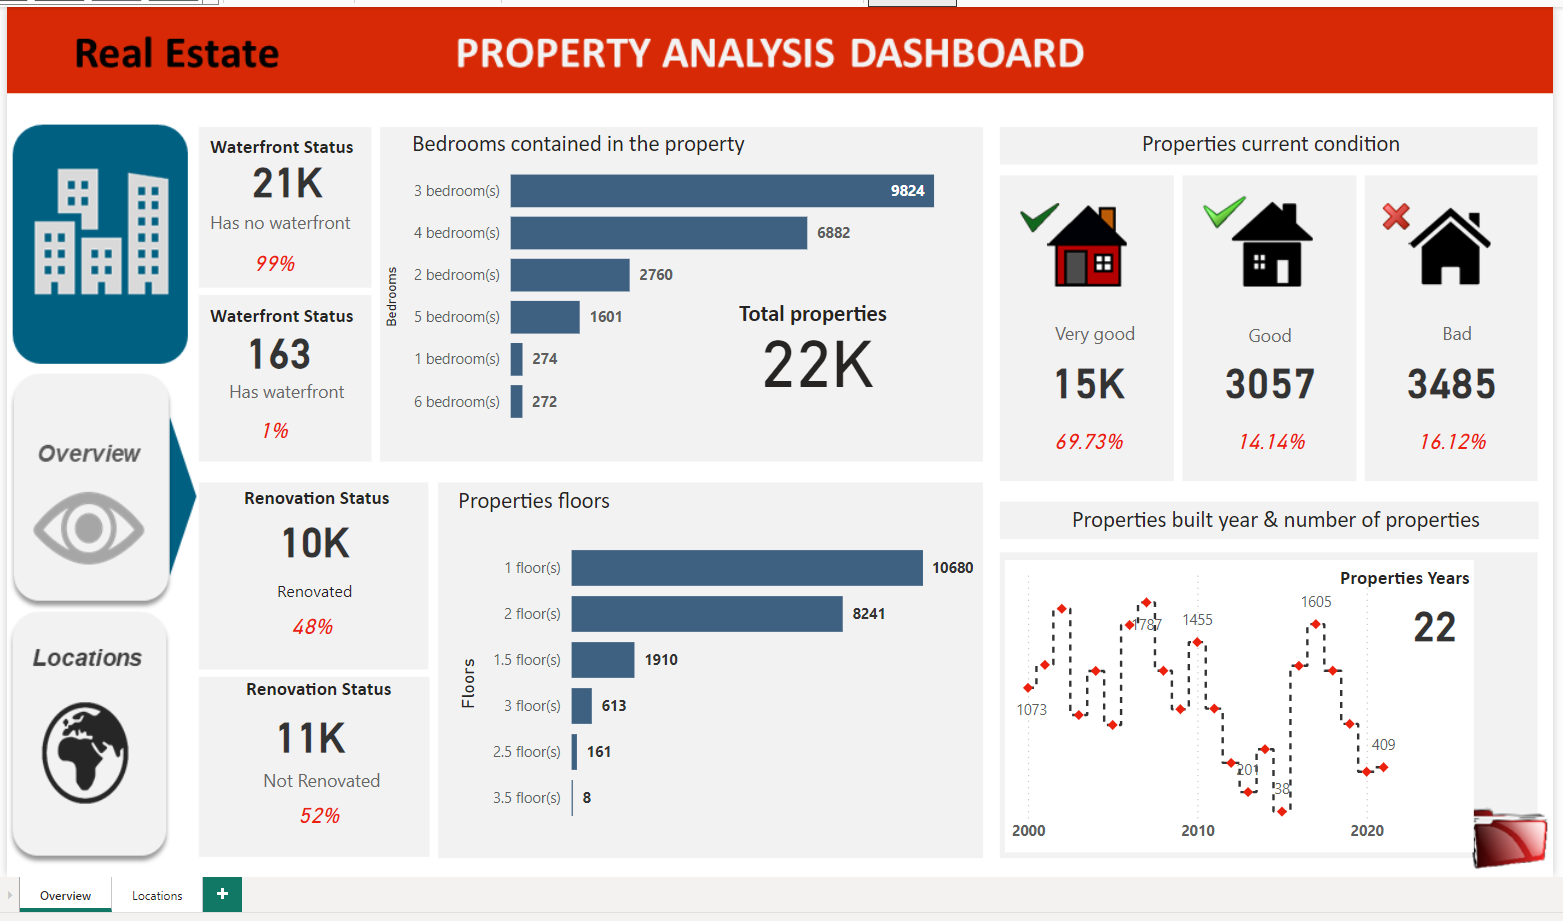

This screenshot's page, from the dashboard's own definition file:
{"tool":"powerbi","page":{"name":"Overview","canvas":[1280,720],"ordinal":0},"visuals":[{"type":"textbox","box":[330.2,96.4,340.2,39.7],"z":0},{"type":"barChart","fields":{"Category":["Dim_Bedrooms.Bedrooms"],"Y":["Measures Table.Total properties"]},"box":[307.6,112,497.5,248],"z":1000},{"type":"textbox","box":[600.9,236.7,157.3,41.1],"z":2000},{"type":"card","fields":{"Values":["Measures Table.Total properties"]},"box":[582.5,236.7,175.7,103.5],"z":3000},{"type":"card","fields":{"Values":["Measures Table.Waterfront No"]},"box":[163,121.9,137.5,41.1],"z":4000},{"type":"card","fields":{"Values":["Measures Table.Waterfront Yes"]},"box":[178.6,260.8,92.1,46.8],"z":5000},{"type":"textbox","box":[163,100.6,137.5,29.8],"z":6000},{"type":"textbox","box":[163,240.9,137.5,29.8],"z":7000},{"type":"textbox","box":[163,163,137.5,29.8],"z":8000},{"type":"card","fields":{"Values":["Measures Table.Waterfront No%"]},"box":[185.7,188.5,70.9,48.2],"z":9000},{"type":"card","fields":{"Values":["Measures Table.Waterfront Yes%"]},"box":[197,330.2,46.8,41.1],"z":10000},{"type":"textbox","box":[178.6,303.3,117.6,29.8],"z":11000},{"type":"textbox","box":[191.3,391.2,153.1,29.8],"z":12000},{"type":"textbox","box":[218.3,469.1,80.8,29.8],"z":13000},{"type":"textbox","box":[192.8,549.9,151.7,29.8],"z":14000},{"type":"textbox","box":[206.9,625,123.3,29.8],"z":15000},{"type":"card","fields":{"Values":["Measures Table.Renovated"]},"box":[185.7,419.6,137.5,41.1],"z":16000},{"type":"card","fields":{"Values":["Measures Table.Renovated%"]},"box":[216.9,489,70.9,48.2],"z":17000},{"type":"card","fields":{"Values":["Measures Table.Not Renovated"]},"box":[204.2,578.3,92.1,46.8],"z":18000},{"type":"card","fields":{"Values":["Measures Table.Not Renovated%"]},"box":[233.9,649.1,46.8,41.1],"z":19000},{"type":"textbox","box":[368.5,391.2,286.3,39.7],"z":20000},{"type":"barChart","fields":{"Category":["Dim_Floors.Floors"],"Y":["Measures Table.Total properties"]},"box":[368.5,420.9,436.5,269.3],"z":21000},{"type":"card","fields":{"Values":["Measures Table.Very Good"]},"box":[826.3,287.7,137.5,41.1],"z":22000},{"type":"card","fields":{"Values":["Measures Table.Good"]},"box":[976.5,287.7,137.5,41.1],"z":23000},{"type":"card","fields":{"Values":["Measures Table.Bad"]},"box":[1132.4,287.7,127.6,41.1],"z":24000},{"type":"card","fields":{"Values":["Measures Table.Very Good%"]},"box":[857.5,335.9,75.1,48.2],"z":25000},{"type":"card","fields":{"Values":["Measures Table.Good%"]},"box":[1007.7,335.9,75.1,48.2],"z":26000},{"type":"card","fields":{"Values":["Measures Table.Bad%"]},"box":[1158,335.9,75.1,48.2],"z":27000},{"type":"textbox","box":[841.9,255.1,117.6,29.8],"z":28000},{"type":"textbox","box":[986.5,256.5,117.6,29.8],"z":29000},{"type":"textbox","box":[1140.9,255.1,117.6,29.8],"z":30000},{"type":"textbox","box":[857.5,406.8,385.5,43.9],"z":31000},{"type":"textbox","box":[853.2,96.4,385.5,43.9],"z":32000},{"type":"lineChart","fields":{"Y":["Measures Table.Total properties"],"Category":["FactTable.yr_built"]},"box":[826.3,457.8,388.3,242.4],"z":33000},{"type":"textbox","box":[1098.4,457.8,133.2,29.8],"z":34000},{"type":"card","fields":{"Values":["Measures Table.Properties years"]},"box":[1131,489,100.6,41.1],"z":35000},{"type":"actionButton","box":[1214.6,661.9,65.2,48.2],"z":36000},{"type":"shape","box":[26.9,569.8,76.5,92.1],"z":38000}]}

Visuals, with their boxes on the page's 1280x720 design canvas (x1, y1, x2, y2). These are canvas units, not pixel positions in the 1563x921 screenshot, which may show the page scaled, cropped or inside an application window:
textbox: <region>330, 96, 670, 136</region>
barChart - Dim_Bedrooms.Bedrooms x Measures Table.Total properties: <region>308, 112, 805, 360</region>
textbox: <region>601, 237, 758, 278</region>
card - Measures Table.Total properties: <region>582, 237, 758, 340</region>
card - Measures Table.Waterfront No: <region>163, 122, 300, 163</region>
card - Measures Table.Waterfront Yes: <region>179, 261, 271, 308</region>
textbox: <region>163, 101, 300, 130</region>
textbox: <region>163, 241, 300, 271</region>
textbox: <region>163, 163, 300, 193</region>
card - Measures Table.Waterfront No%: <region>186, 188, 257, 237</region>
card - Measures Table.Waterfront Yes%: <region>197, 330, 244, 371</region>
textbox: <region>179, 303, 296, 333</region>
textbox: <region>191, 391, 344, 421</region>
textbox: <region>218, 469, 299, 499</region>
textbox: <region>193, 550, 344, 580</region>
textbox: <region>207, 625, 330, 655</region>
card - Measures Table.Renovated: <region>186, 420, 323, 461</region>
card - Measures Table.Renovated%: <region>217, 489, 288, 537</region>
card - Measures Table.Not Renovated: <region>204, 578, 296, 625</region>
card - Measures Table.Not Renovated%: <region>234, 649, 281, 690</region>
textbox: <region>368, 391, 655, 431</region>
barChart - Dim_Floors.Floors x Measures Table.Total properties: <region>368, 421, 805, 690</region>
card - Measures Table.Very Good: <region>826, 288, 964, 329</region>
card - Measures Table.Good: <region>976, 288, 1114, 329</region>
card - Measures Table.Bad: <region>1132, 288, 1260, 329</region>
card - Measures Table.Very Good%: <region>858, 336, 933, 384</region>
card - Measures Table.Good%: <region>1008, 336, 1083, 384</region>
card - Measures Table.Bad%: <region>1158, 336, 1233, 384</region>
textbox: <region>842, 255, 960, 285</region>
textbox: <region>986, 256, 1104, 286</region>
textbox: <region>1141, 255, 1258, 285</region>
textbox: <region>858, 407, 1243, 451</region>
textbox: <region>853, 96, 1239, 140</region>
lineChart - Measures Table.Total properties x FactTable.yr_built: <region>826, 458, 1215, 700</region>
textbox: <region>1098, 458, 1232, 488</region>
card - Measures Table.Properties years: <region>1131, 489, 1232, 530</region>
actionButton: <region>1215, 662, 1280, 710</region>
shape: <region>27, 570, 103, 662</region>
